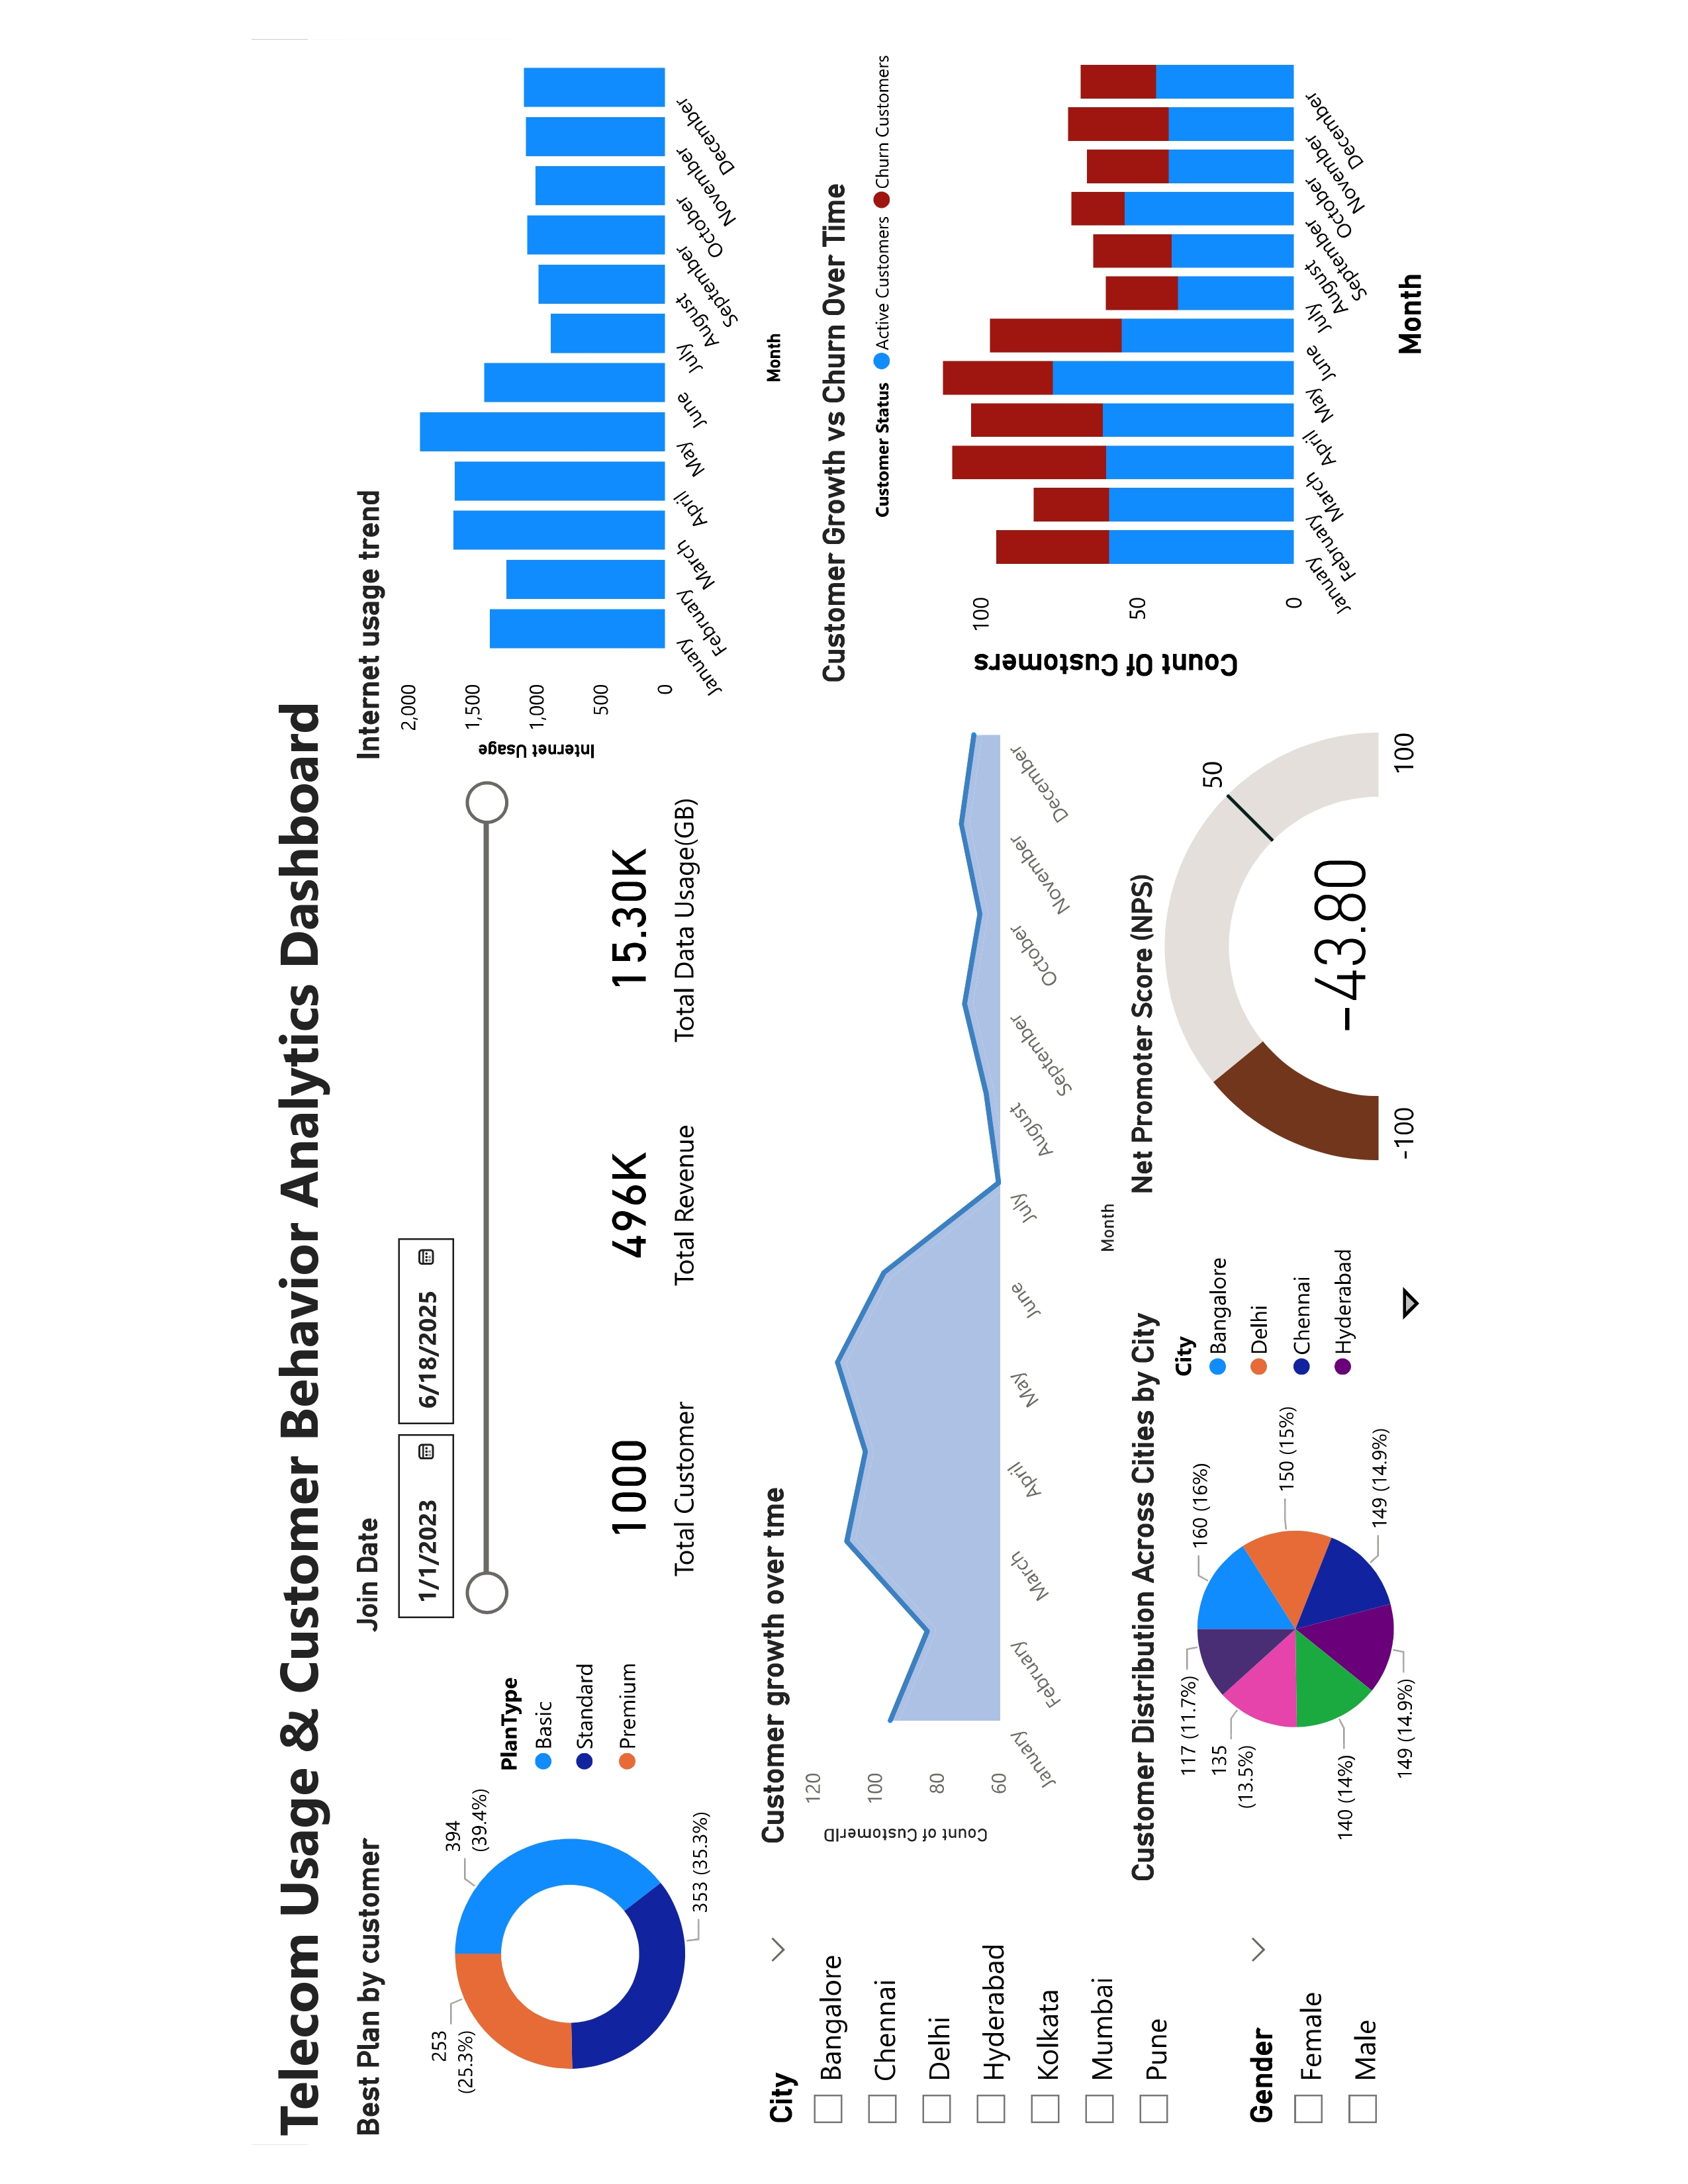

What the dashboard file says about the page in this screenshot:
{"tool":"powerbi","page":{"name":"Page 1","canvas":[1280,720],"ordinal":0},"visuals":[{"type":"textbox","box":[0,0,903.7,60.5],"z":0},{"type":"donutChart","title":"Best Plan by customer","fields":{"Category":["telecom_usage_dataset_1000_rows.PlanType"],"Y":["CountNonNull(telecom_usage_dataset_1000_rows.CustomerID)"]},"box":[0,60.5,307.4,245.2],"z":1000},{"type":"areaChart","title":"Customer growth over tme","fields":{"Category":["telecom_usage_dataset_1000_rows.JoinDate.Variation.Date Hierarchy.Month"],"Y":["CountNonNull(telecom_usage_dataset_1000_rows.CustomerID)"]},"box":[178.1,305.7,705.5,225.1],"z":2000},{"type":"clusteredColumnChart","title":"Internet usage trend","fields":{"Category":["telecom_usage_dataset_1000_rows.JoinDate.Variation.Date Hierarchy.Month"],"Y":["Sum(telecom_usage_dataset_1000_rows.DataUsageGB)"]},"box":[836.5,60.5,443.5,267.1],"z":3000},{"type":"slicer","fields":{"Values":["telecom_usage_dataset_1000_rows.City"]},"box":[0,305.7,139.4,292.3],"z":4000},{"type":"slicer","fields":{"Values":["telecom_usage_dataset_1000_rows.Gender"]},"box":[0,598,139.4,119.3],"z":5000},{"type":"slicer","title":"Join Date","fields":{"Values":["telecom_usage_dataset_1000_rows.JoinDate"]},"box":[307.4,60.5,529.1,109.2],"z":6000},{"type":"gauge","title":"Net Promoter Score (NPS)","fields":{"Y":["telecom_usage_dataset_1000_rows.NPS Score"],"MinValue":["telecom_usage_dataset_1000_rows.Min NPS"],"MaxValue":["telecom_usage_dataset_1000_rows.Max NPS"],"TargetValue":["telecom_usage_dataset_1000_rows.Target NPS"]},"box":[572.8,530.8,310.8,189.8],"z":7000},{"type":"card","fields":{"Values":["telecom_usage_dataset_1000_rows.Total Customer"]},"box":[307.4,169.7,183.1,136.1],"z":9000},{"type":"card","fields":{"Values":["telecom_usage_dataset_1000_rows.Total Revenue"]},"box":[490.5,169.7,161.3,136.1],"z":10000},{"type":"card","fields":{"Values":["Sum(telecom_usage_dataset_1000_rows.DataUsageGB)"]},"box":[651.8,169.7,184.8,136.1],"z":11000},{"type":"columnChart","title":"Customer Growth vs Churn Over Time","fields":{"Category":["telecom_usage_dataset_1000_rows.JoinDate.Variation.Date Hierarchy.Month"],"Y":["CountNonNull(telecom_usage_dataset_1000_rows.CustomerID)"],"Series":["telecom_usage_dataset_1000_rows.Customer Status"]},"box":[883.6,342.7,396.4,376.3],"z":12000},{"type":"pieChart","fields":{"Category":["telecom_usage_dataset_1000_rows.City"],"Y":["CountNonNull(telecom_usage_dataset_1000_rows.CustomerID)"]},"box":[154.5,530.8,404.8,186.5],"z":13000}]}

Visuals, with their boxes on the page's 1280x720 design canvas (x1, y1, x2, y2). These are canvas units, not pixel positions in the 1688x2184 screenshot, which may show the page scaled, cropped or inside an application window:
textbox: select_region(0, 0, 904, 60)
"Best Plan by customer" donutChart: select_region(0, 60, 307, 306)
"Customer growth over tme" areaChart: select_region(178, 306, 884, 531)
"Internet usage trend" clusteredColumnChart: select_region(836, 60, 1280, 328)
slicer - telecom_usage_dataset_1000_rows.City: select_region(0, 306, 139, 598)
slicer - telecom_usage_dataset_1000_rows.Gender: select_region(0, 598, 139, 717)
"Join Date" slicer: select_region(307, 60, 836, 170)
"Net Promoter Score (NPS)" gauge: select_region(573, 531, 884, 721)
card - telecom_usage_dataset_1000_rows.Total Customer: select_region(307, 170, 490, 306)
card - telecom_usage_dataset_1000_rows.Total Revenue: select_region(490, 170, 652, 306)
card - Sum(telecom_usage_dataset_1000_rows.DataUsageGB): select_region(652, 170, 837, 306)
"Customer Growth vs Churn Over Time" columnChart: select_region(884, 343, 1280, 719)
pieChart - telecom_usage_dataset_1000_rows.City x CountNonNull(telecom_usage_dataset_1000_rows.CustomerID): select_region(154, 531, 559, 717)
